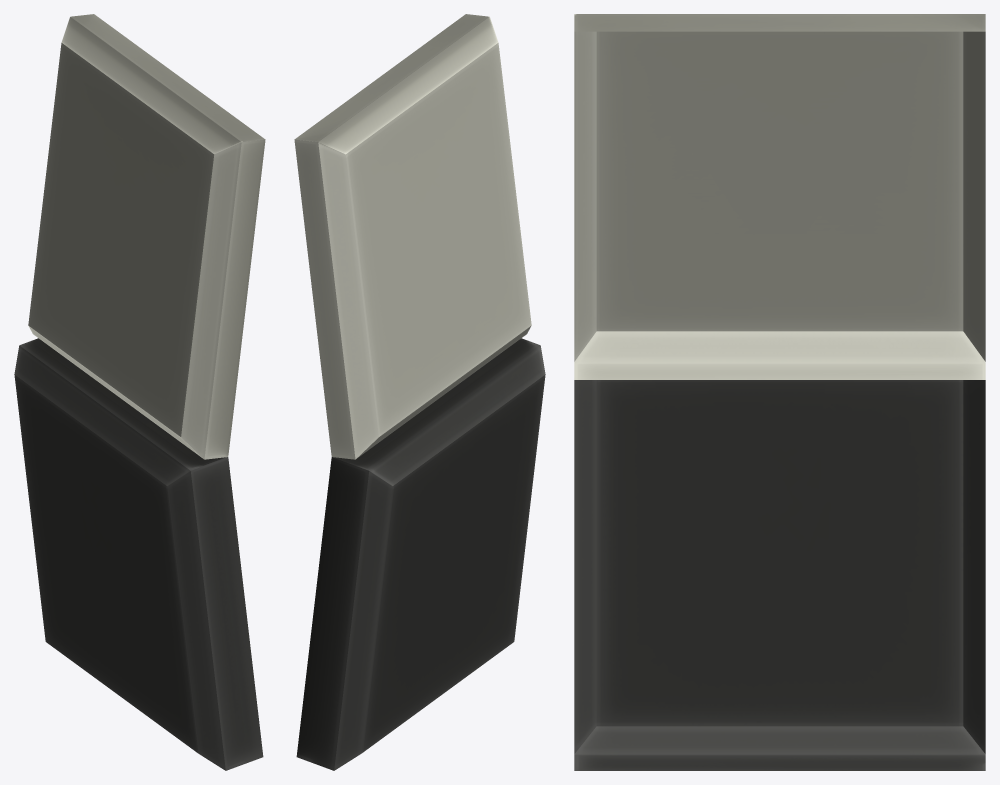
The model's file is Tile_Mosaic_Terr_Right_Final_001.fbx.
3 views of the same model, side by side, from view 1: azimuth 30°, elevation 25°; view 2: azimuth 150°, elevation 25°; view 3: azimuth 270°, elevation 25° (orthographic). The views are drawn at different scales.
Visible parts, largest first — view 1: Tile_Mosaic_Terr_Right_003; view 2: Tile_Mosaic_Terr_Right_003; view 3: Tile_Mosaic_Terr_Right_003.
Boxes of the visible parts, x1,y1,x2,y2 form: Tile_Mosaic_Terr_Right_003: (14, 14, 265, 770); Tile_Mosaic_Terr_Right_003: (294, 14, 545, 770); Tile_Mosaic_Terr_Right_003: (574, 14, 985, 770).
Size of the model in its own units: 7.49 by 50.26 by 25.
